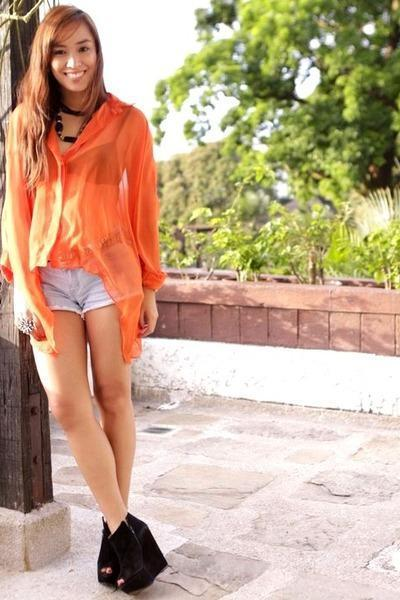shirt: (0, 92, 163, 364)
shoe: (97, 513, 170, 595)
shorts: (39, 256, 112, 316)
